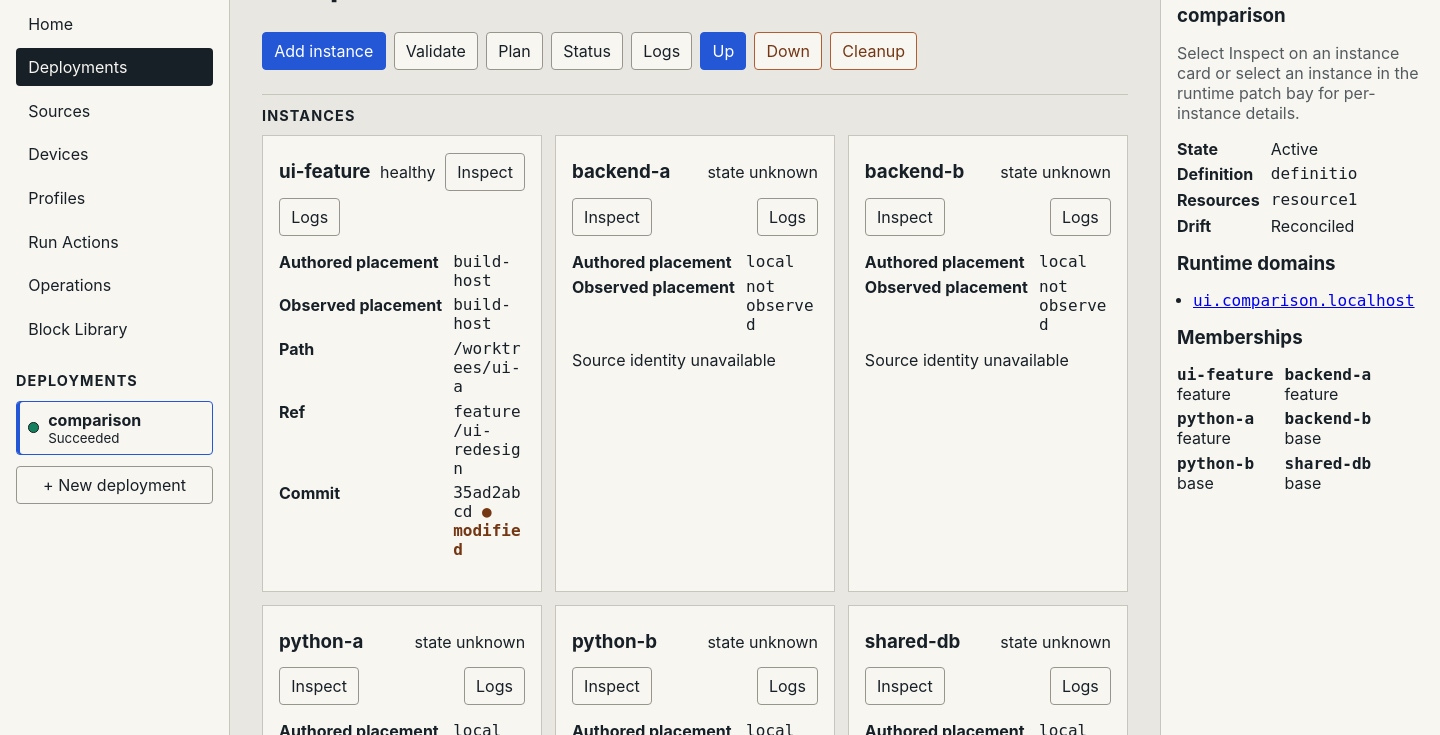
Test case: APM ProjectRunner GUI › reviews a source manifest before import and validates the expanded profile
Click the button "profiles": point(114, 198) [16,179,213,217]
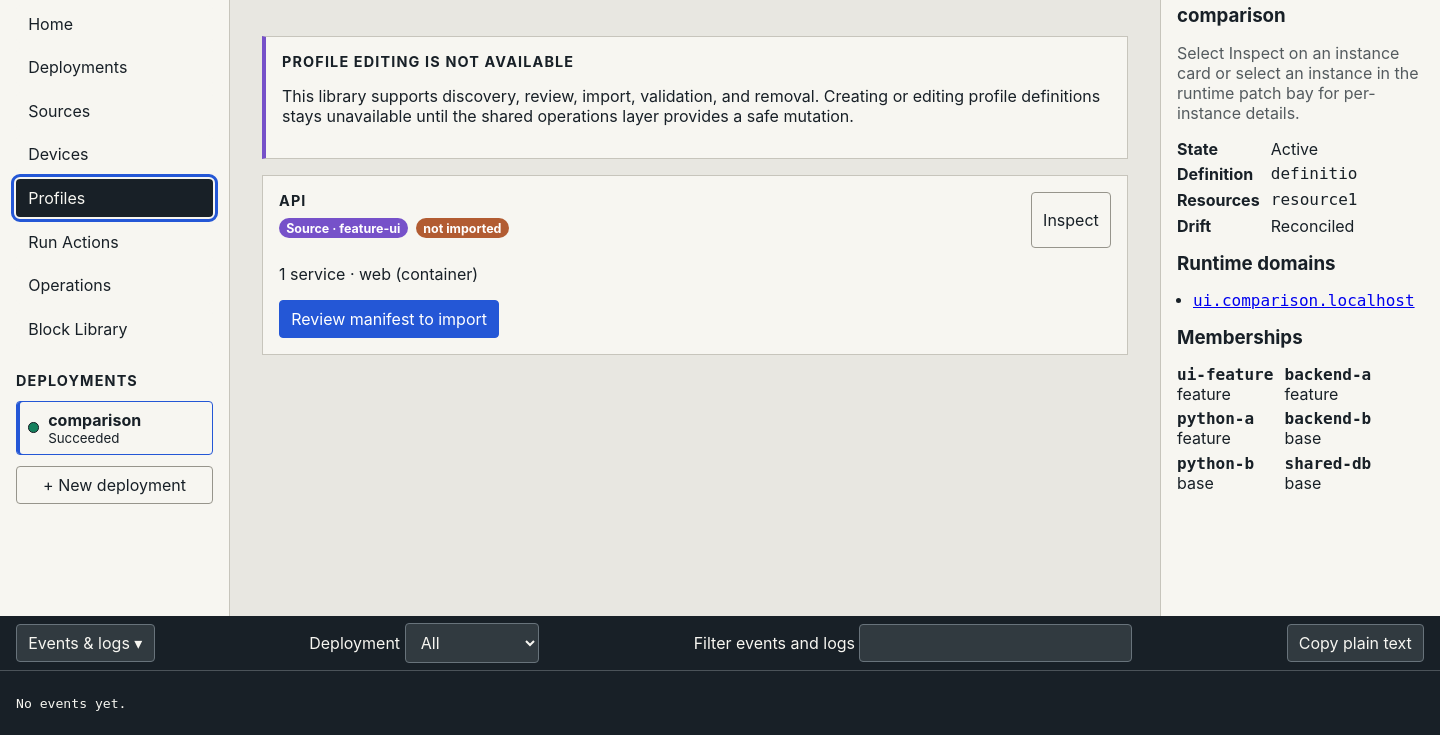
Result: the heading "Profile editing is not available" is shown at [282,53,574,70]
Result: the text "not imported" is shown at [416,218,509,238]
Click the button "Review manifest to import": point(389, 318) [279,300,499,338]
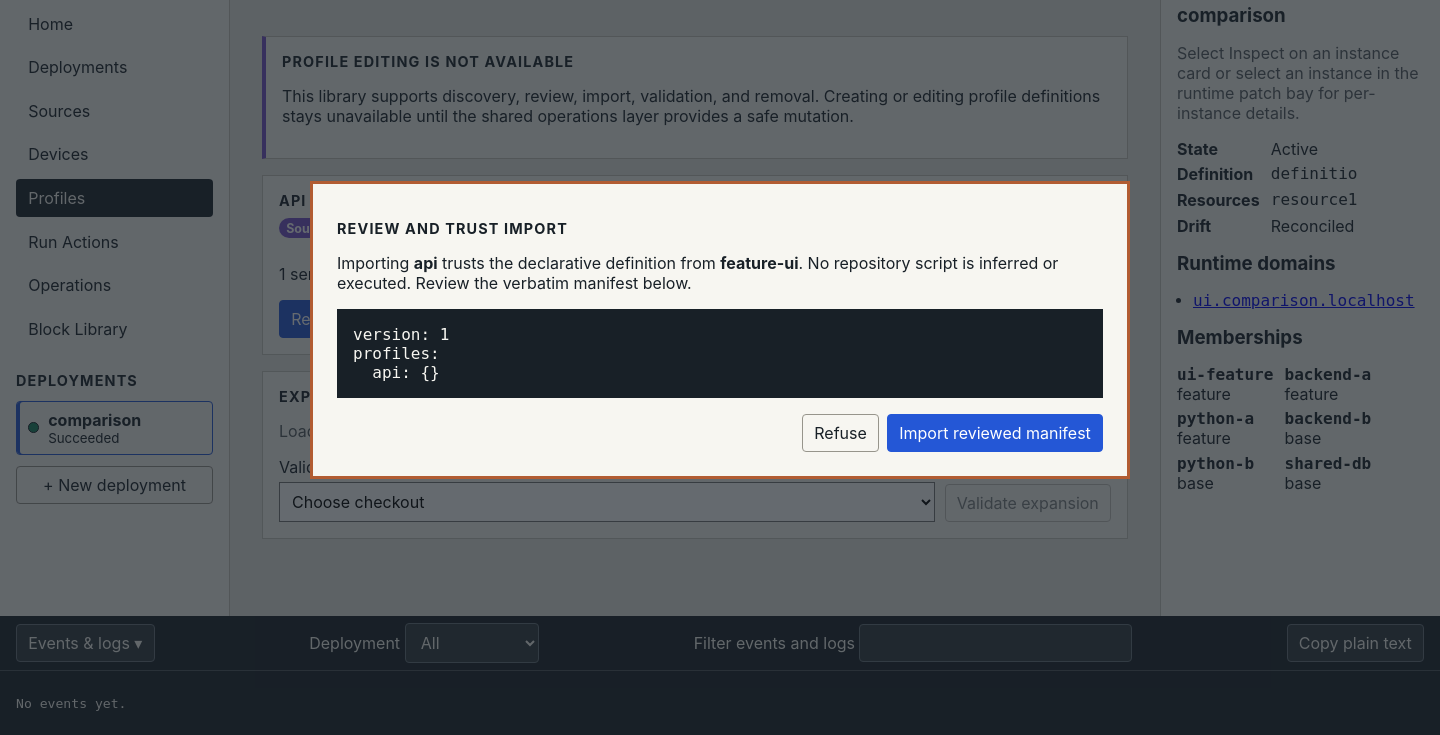
Result: the text "version: 1 profiles: api: {}" is shown at [337,309,1103,398]
Click the button "Import reviewed manifest": point(995, 433) [887,414,1103,452]
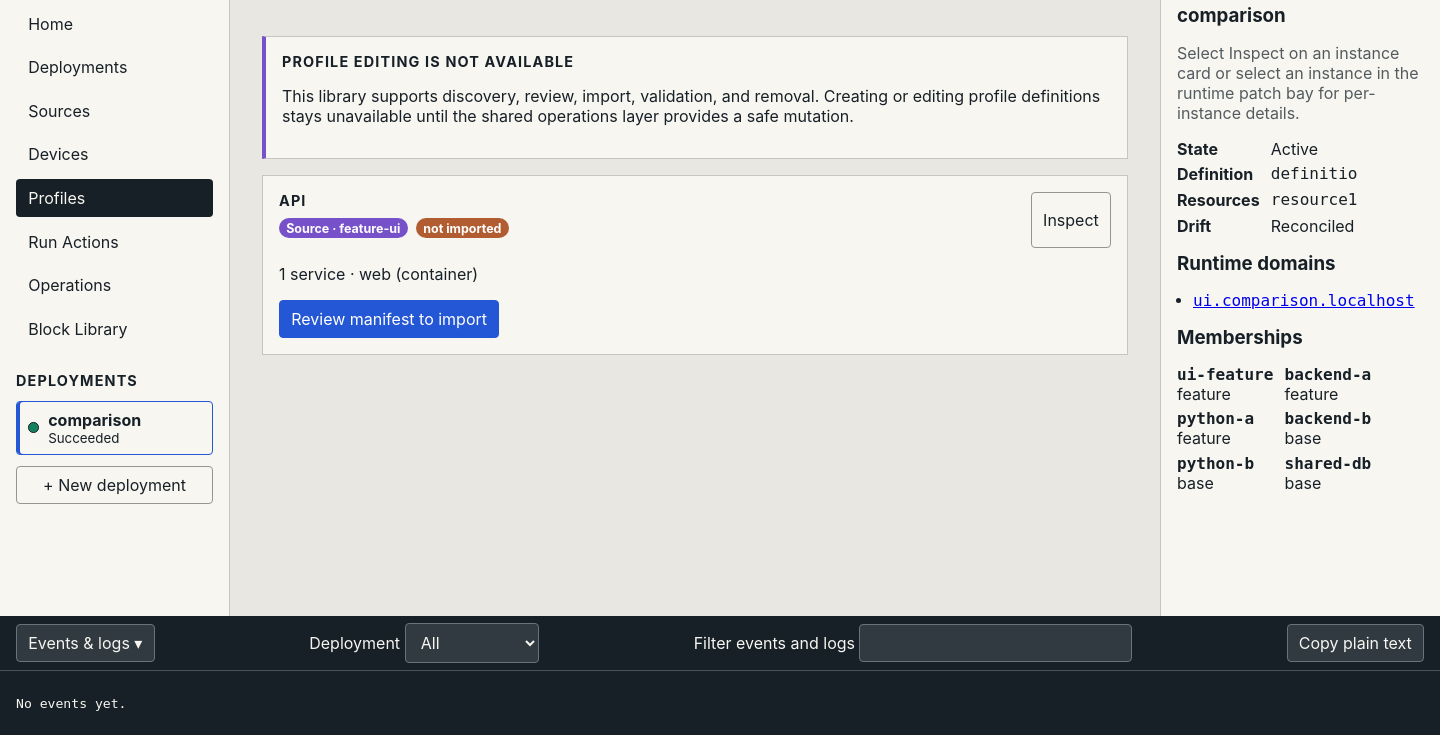
Click the button "Inspect": point(1071, 220) [1031,192,1111,248]
(page scrolled)
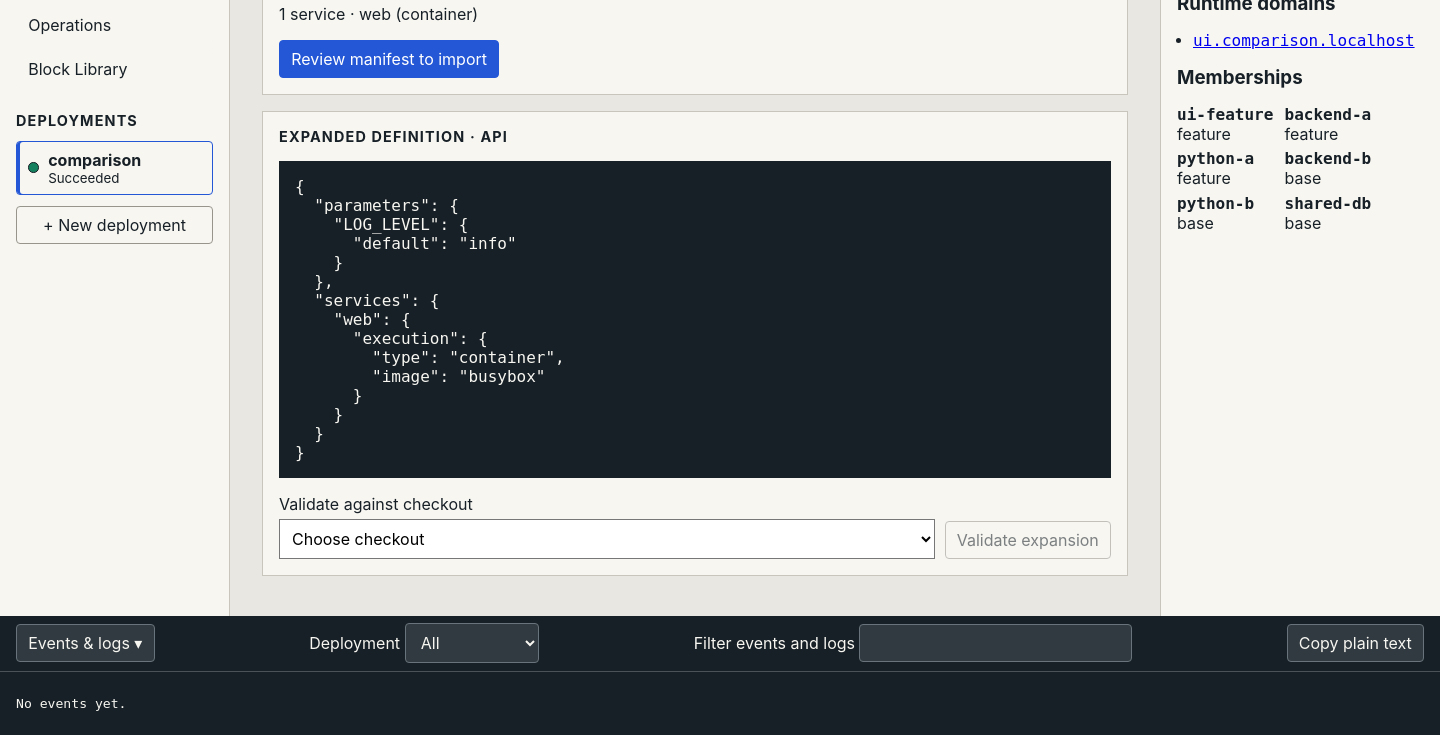
Result: the text "\"image\": \"busybox\"" is shown at [295,176,565,462]
Select "feature-ui" in the dropdown labelled "Validate against checkout": point(607, 539) [279,519,935,559]
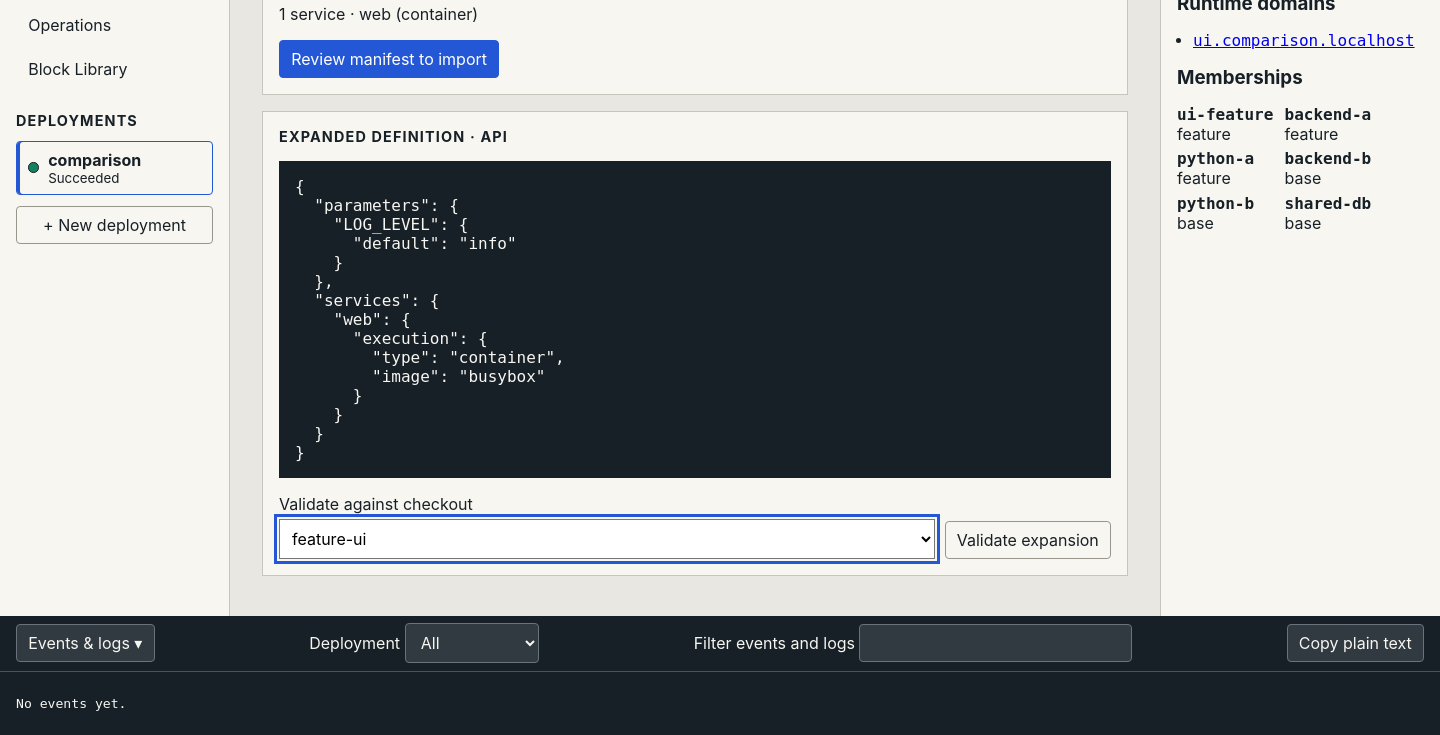
Click the button "Validate expansion": point(1028, 540) [944,521,1111,559]
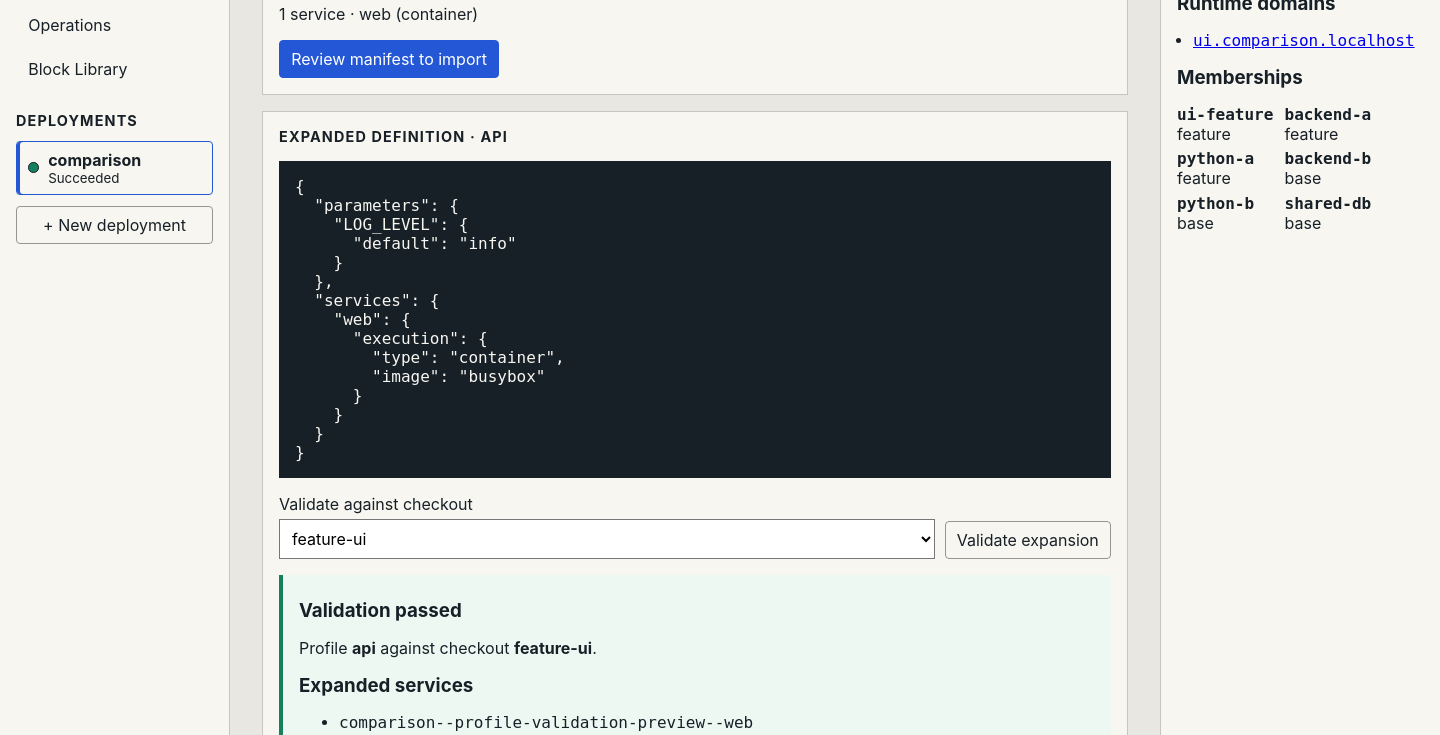
Result: the heading "Validation passed" is shown at [299,599,462,622]
Result: the list item "comparison--profile-validation-preview--web" is shown at [339,713,753,732]
